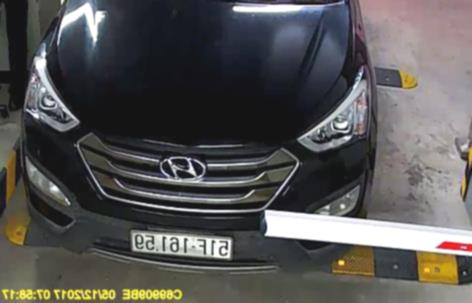License_Plate: (125, 230, 236, 258)
